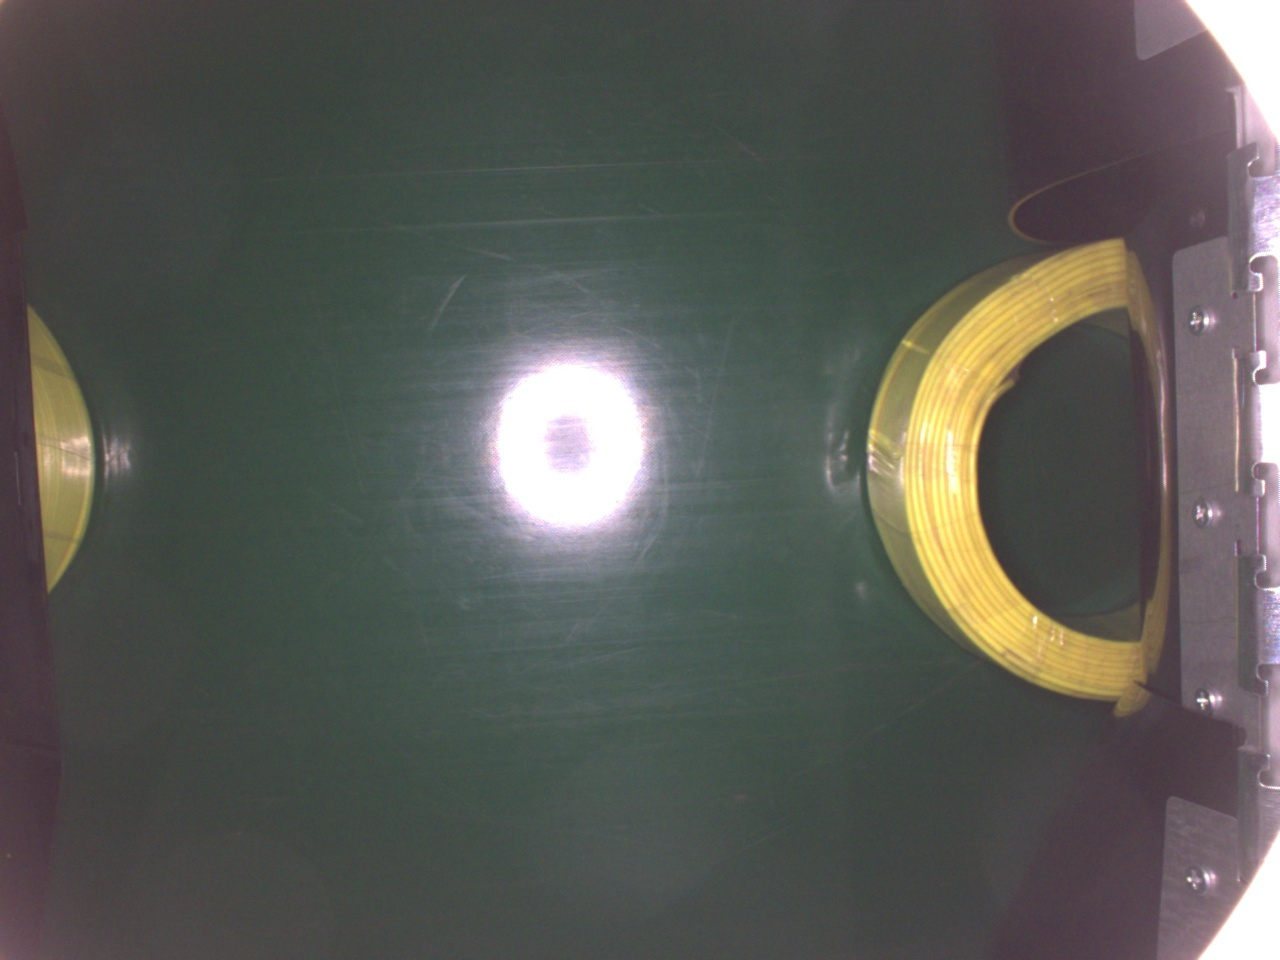yellow: (867, 232, 1151, 701)
